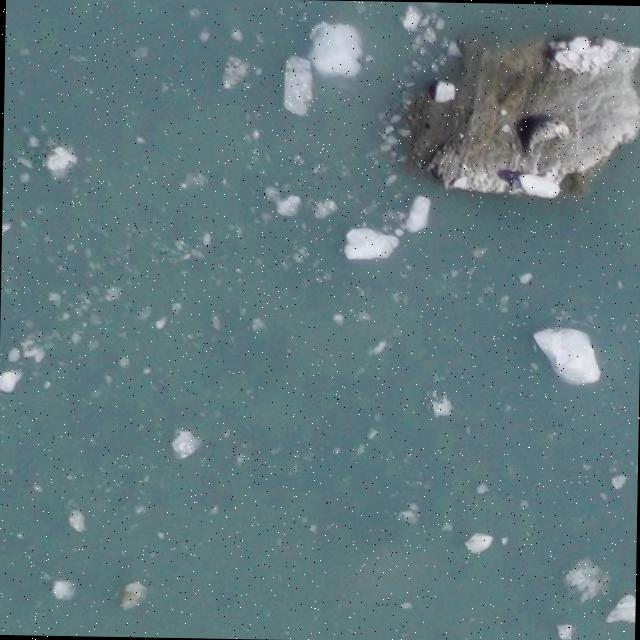seal: (510, 104, 574, 159)
